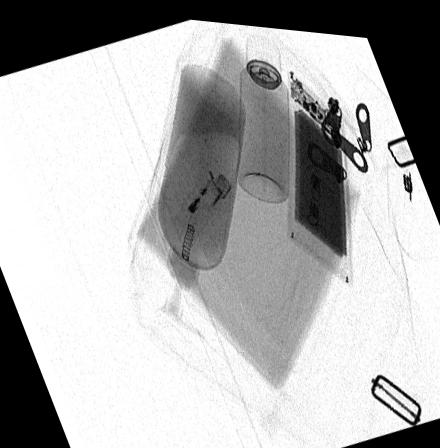Lighter: (170, 159, 230, 239)
Powerbank: (285, 59, 352, 279)
Sprayer: (235, 28, 289, 197)
